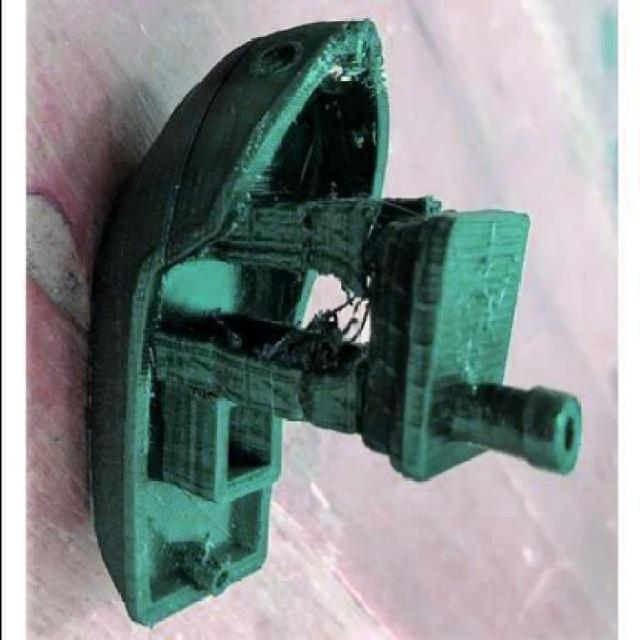spaghetti: (304, 294, 372, 352), (334, 36, 386, 93)
